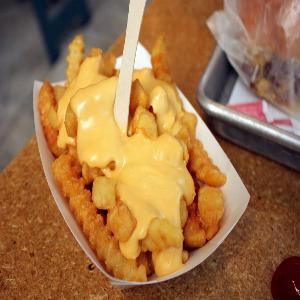fries: (29, 42, 236, 279)
